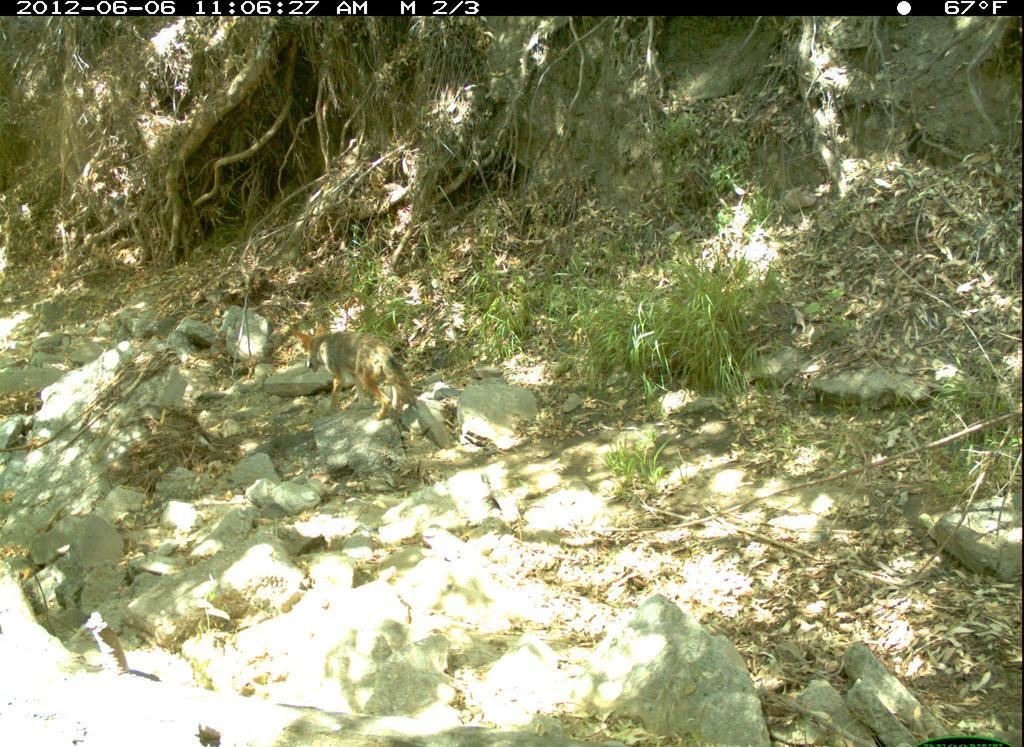coyote: (296, 322, 432, 427)
